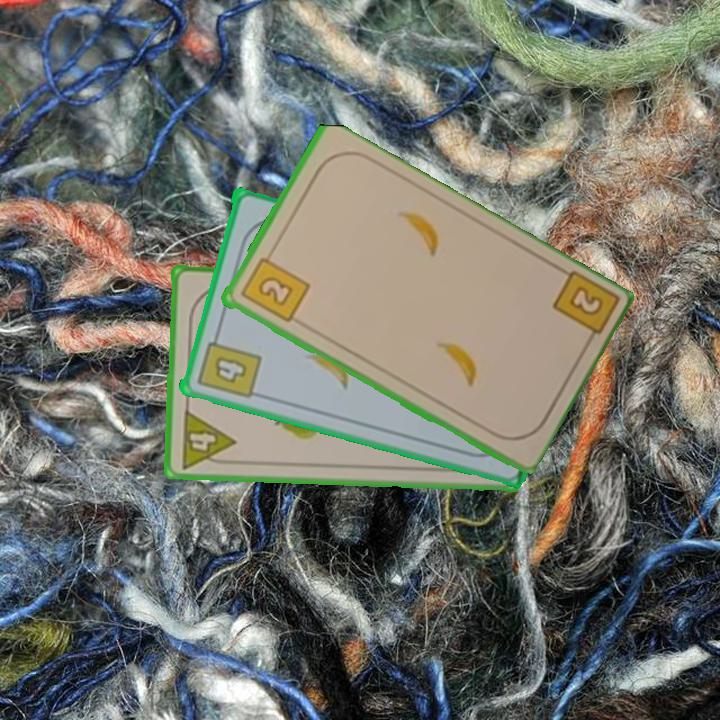2b: (236, 247, 312, 326), (547, 268, 618, 351)
4b: (193, 327, 263, 402)
4p: (177, 406, 238, 471)
